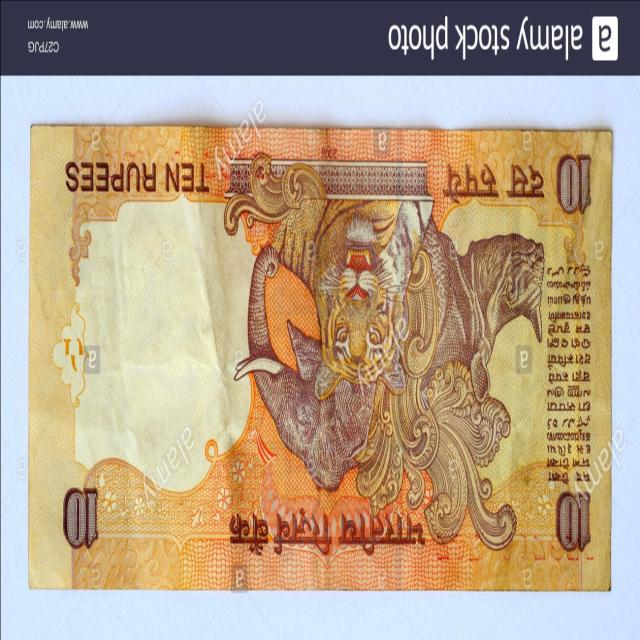10IndianRupees: (31, 127, 611, 591)
